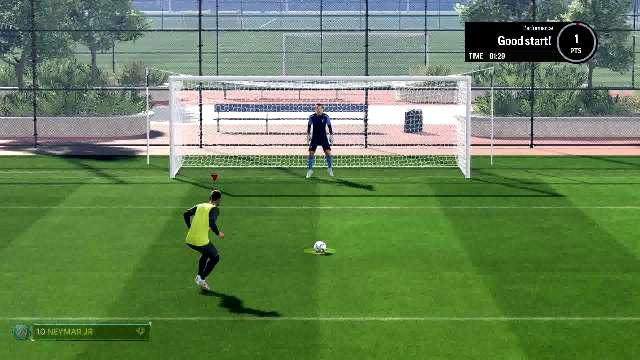bottom-left: (176, 130, 270, 178)
bottom-right: (370, 130, 466, 176)
center-down: (271, 130, 367, 176)
center-up: (272, 81, 368, 129)
circle: (306, 248, 336, 255)
football: (312, 240, 328, 254)
goalkeeper: (302, 102, 342, 178)
player: (180, 187, 232, 295)
top-left: (175, 84, 269, 132)
top-right: (369, 82, 465, 130)
